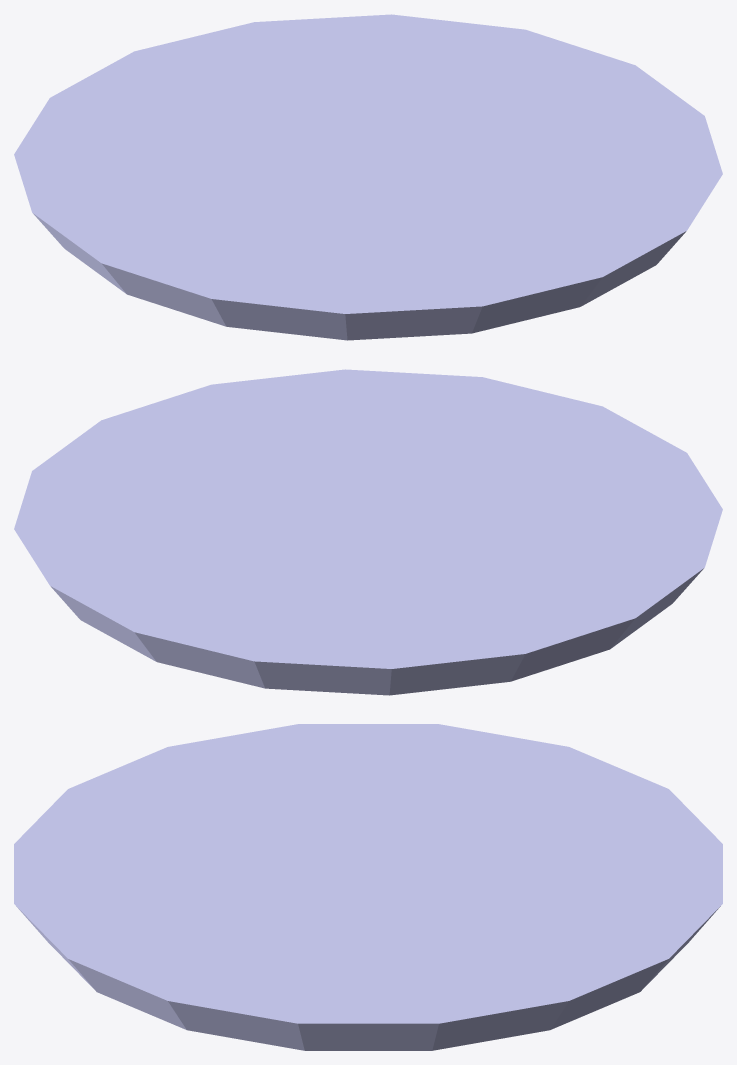
Rendered from SmallConnector2.fbx.
3 renders of one model, top to bottom at view 1: azimuth 30°, elevation 25°; view 2: azimuth 150°, elevation 25°; view 3: azimuth 270°, elevation 25°, orthographic.
Parts seen in each view (by area): view 1: Cylinder.050; view 2: Cylinder.050; view 3: Cylinder.050.
Boxes of the visible parts, <box> form: Cylinder.050: <box>14,14,722,340</box>; Cylinder.050: <box>14,369,722,695</box>; Cylinder.050: <box>14,724,722,1050</box>.
Bounding box in the file's own units: 5864 × 404 × 5864.
